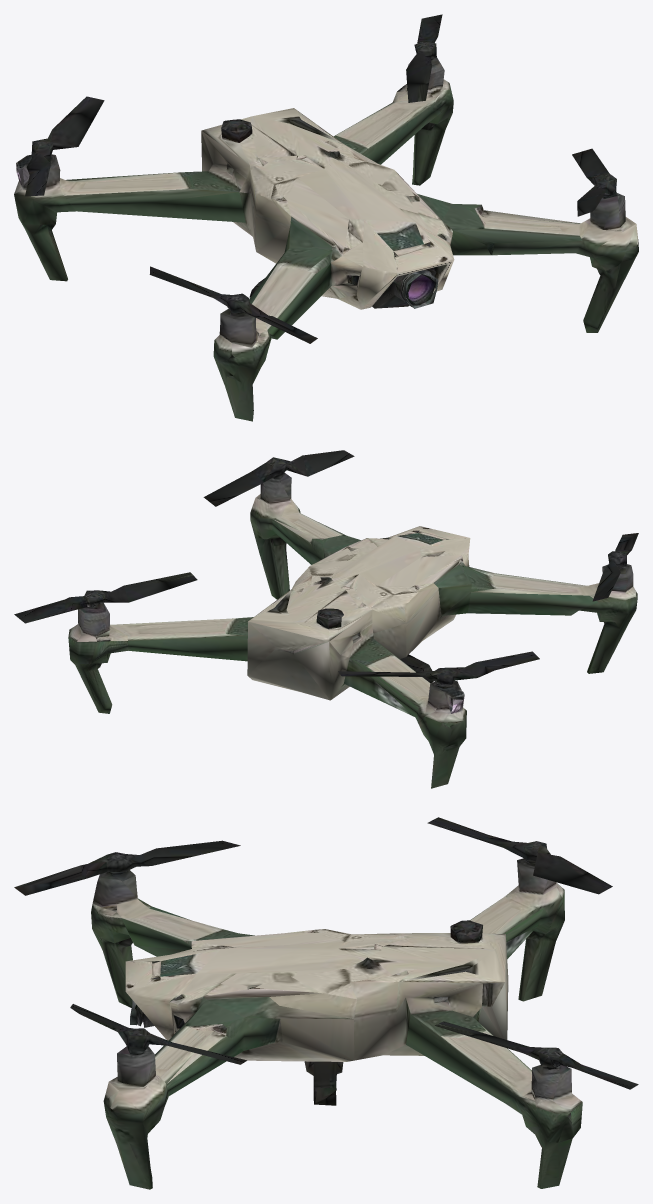
The model's file is t243_drr_lod1.glb.
3 renders of one model, top to bottom at view 1: azimuth 30°, elevation 25°; view 2: azimuth 150°, elevation 25°; view 3: azimuth 270°, elevation 25°, orthographic. The views are drawn at different scales.
Size of the model in its own units: 2.2 by 0.6424 by 2.2.
Materials: 1 (1 with a texture image).
